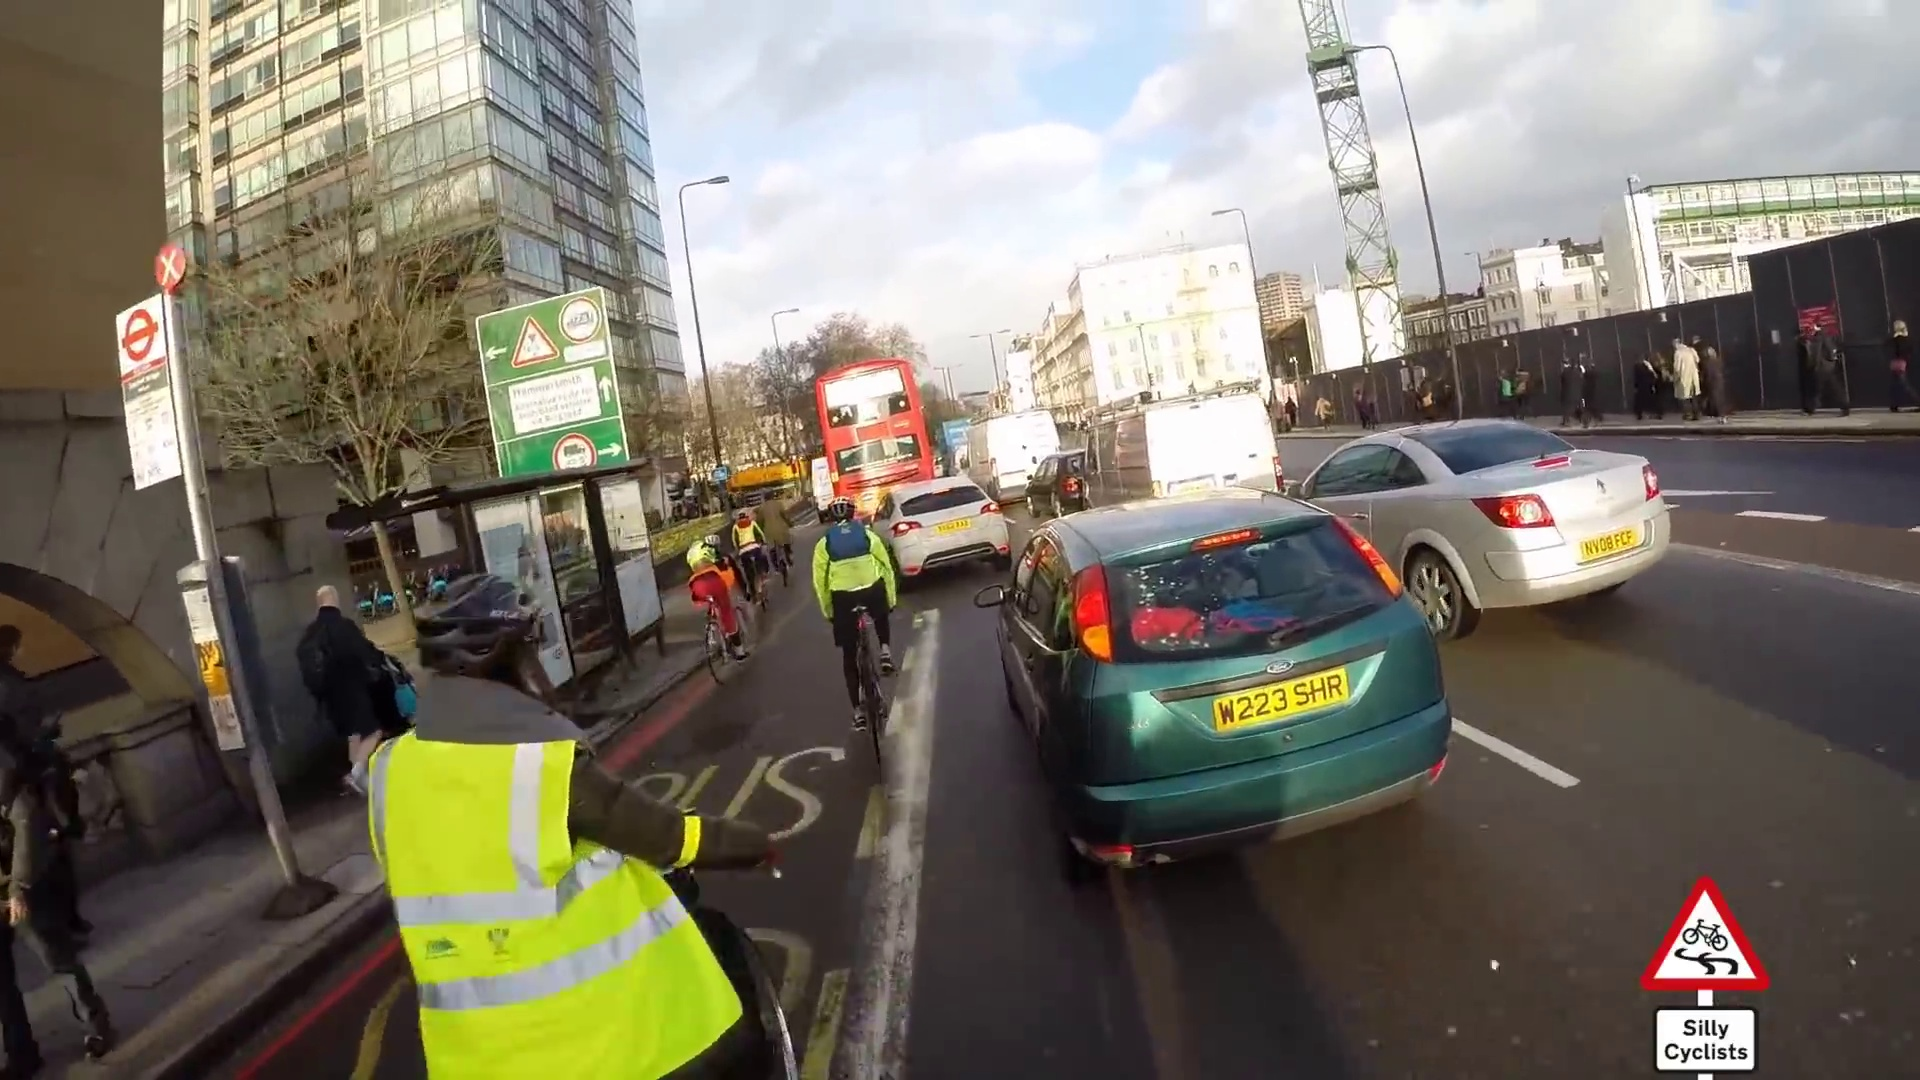cyclist_back: (794, 496, 914, 765), (674, 522, 758, 682), (727, 495, 774, 616)
